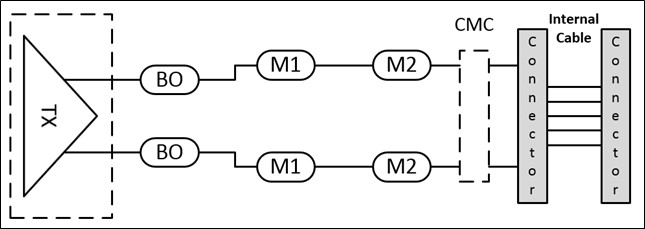dotted_rectangle: (2, 7, 119, 221), (455, 46, 494, 187)
oval: (138, 59, 201, 98), (138, 132, 201, 171), (254, 43, 317, 82), (254, 146, 317, 185), (370, 43, 433, 82), (370, 147, 433, 186)
rectangle: (514, 25, 551, 207), (597, 26, 634, 208)
triangle: (17, 29, 100, 199)
